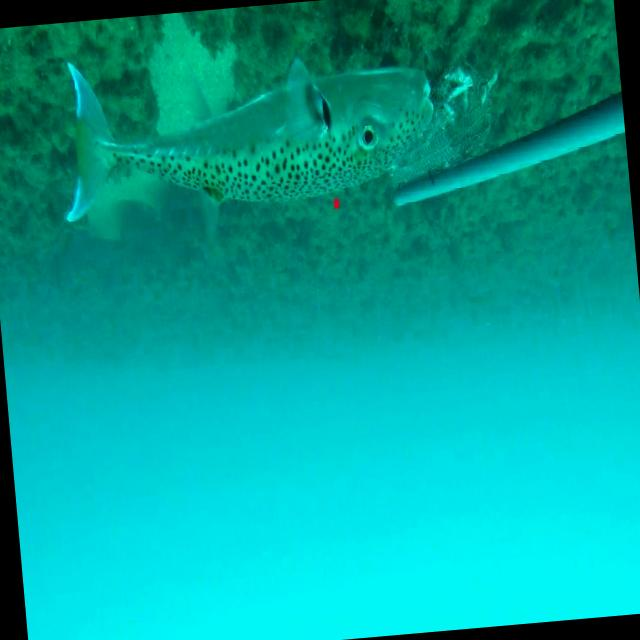Balon Baligi: (51, 28, 440, 223)
